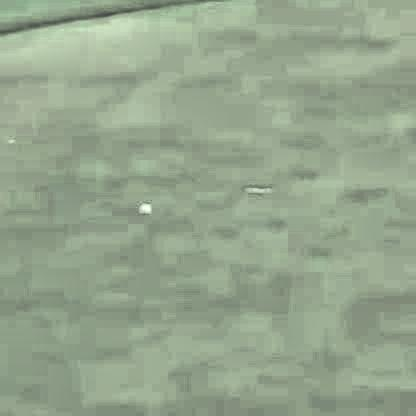golfball: (136, 199, 152, 215)
